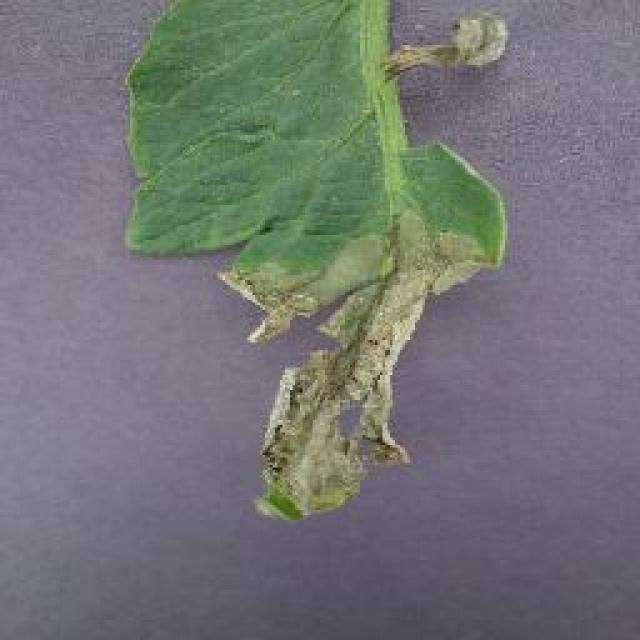Tomato Late Blight: (183, 185, 500, 590)
